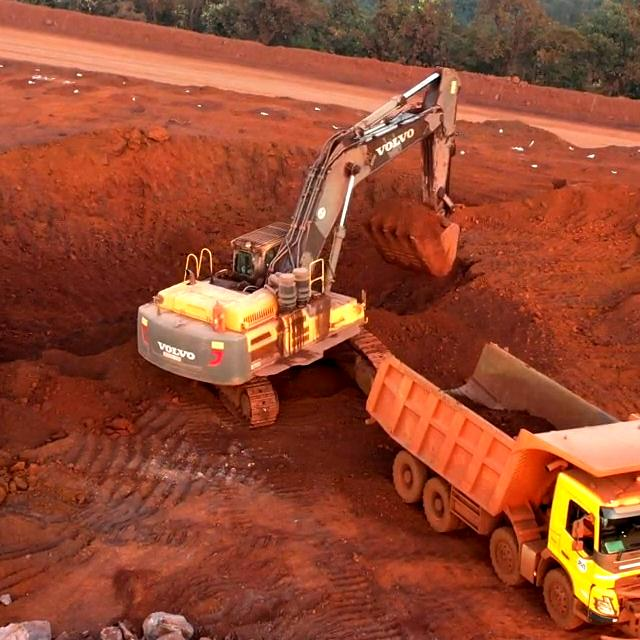Dumper truck: (424, 439, 640, 607)
Excavator: (165, 235, 355, 392)
